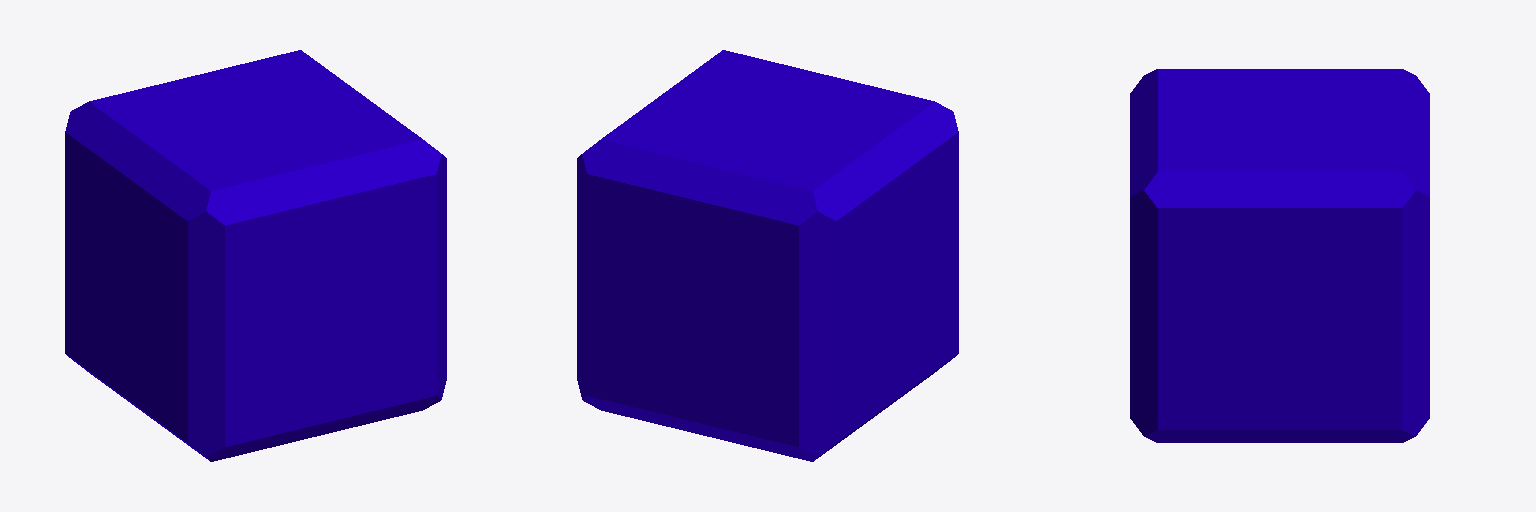
Rendered from SinglePiece-1.obj.
The picture shows the model from 3 angles: view 1: azimuth 30°, elevation 25°; view 2: azimuth 150°, elevation 25°; view 3: azimuth 270°, elevation 25°; orthographic projection.
Visible parts, largest first — view 1: Cube; view 2: Cube; view 3: Cube.
Boxes of the visible parts, box(x1,y1,x2,y2) form: Cube: box(65, 50, 446, 461); Cube: box(577, 50, 958, 461); Cube: box(1130, 69, 1429, 442).
Size of the model in its own units: 1 by 1 by 1.